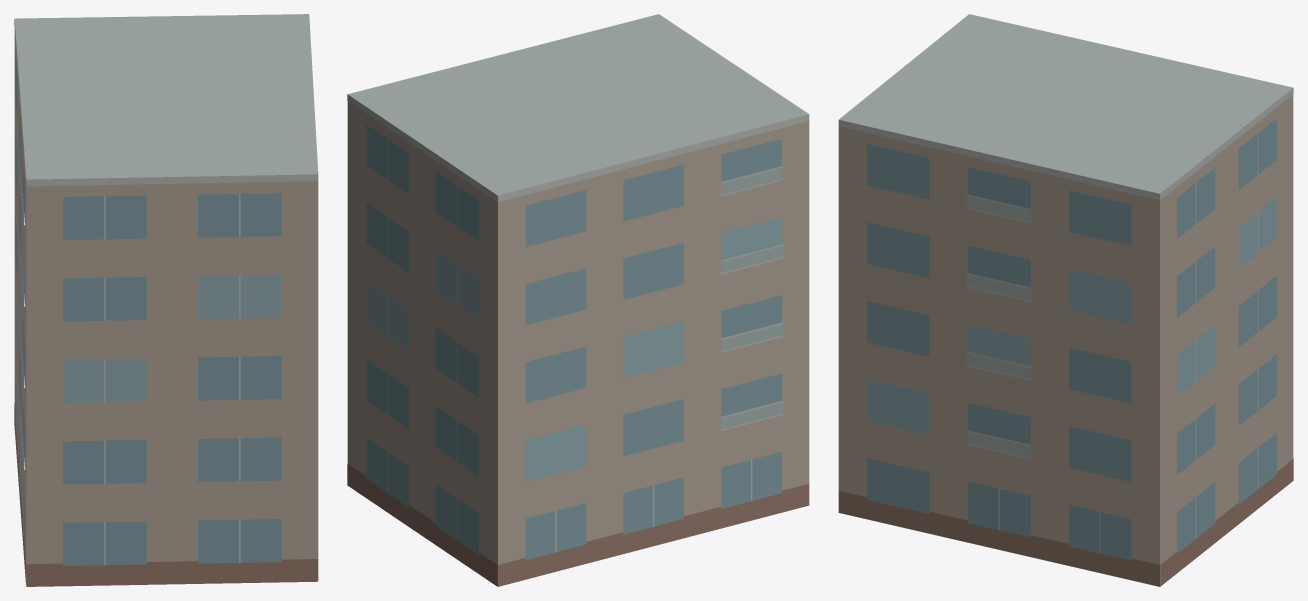
File: survey-upis-32948637.glb
The picture shows the model from 3 angles, left to right: view 1: azimuth 30°, elevation 25°; view 2: azimuth 150°, elevation 25°; view 3: azimuth 270°, elevation 25°; orthographic projection. The views are drawn at different scales.
Parts seen in each view (by area): view 1: survey-upis-32948637.tmp; view 2: survey-upis-32948637.tmp; view 3: survey-upis-32948637.tmp.
Boxes of the visible parts, left/top/right/bottom form: survey-upis-32948637.tmp: left=14, top=14, right=318, bottom=586; survey-upis-32948637.tmp: left=347, top=14, right=809, bottom=586; survey-upis-32948637.tmp: left=838, top=14, right=1293, bottom=586.
Bounding box in the file's own units: 14.14 × 14.4 × 15.11.
